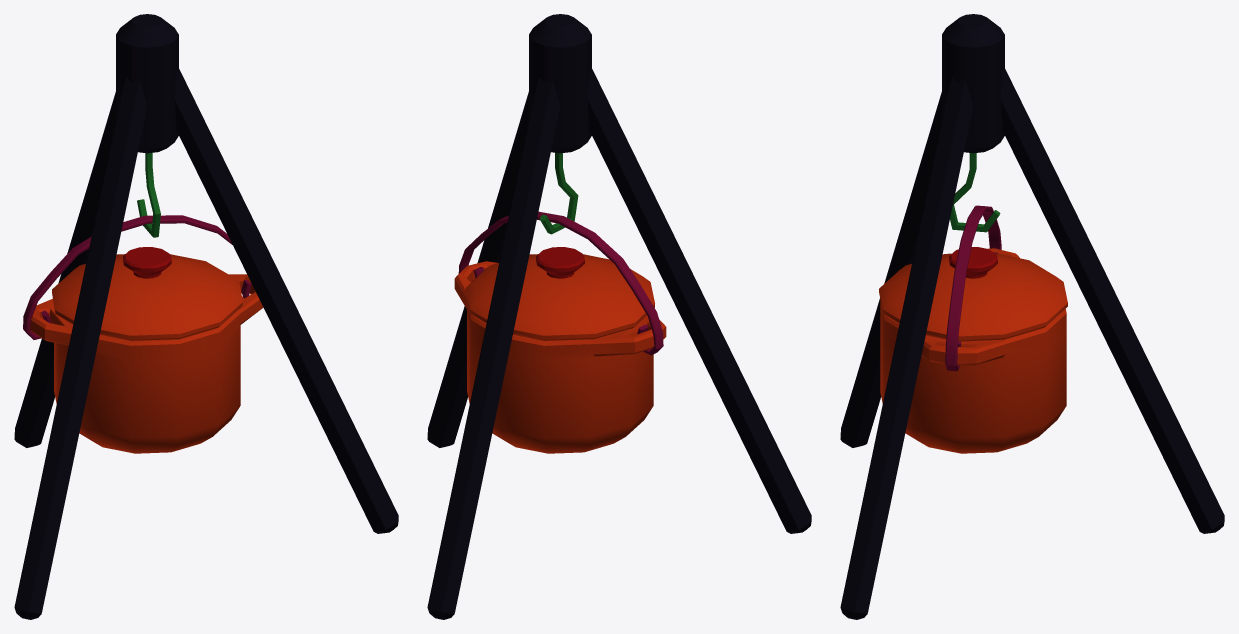
Rendered from Mangal-1.FBX.
3 renders of one model, left to right at view 1: azimuth 30°, elevation 25°; view 2: azimuth 150°, elevation 25°; view 3: azimuth 270°, elevation 25°, orthographic.
Parts seen in each view (by area): view 1: Mangal-1; view 2: Mangal-1; view 3: Mangal-1.
Part boxes in pixels (box(x1,y1,x2,y2)): Mangal-1: box(14, 14, 398, 619); Mangal-1: box(427, 14, 811, 619); Mangal-1: box(840, 14, 1224, 619).
Size of the model in its own units: 943 by 818 by 1202.
